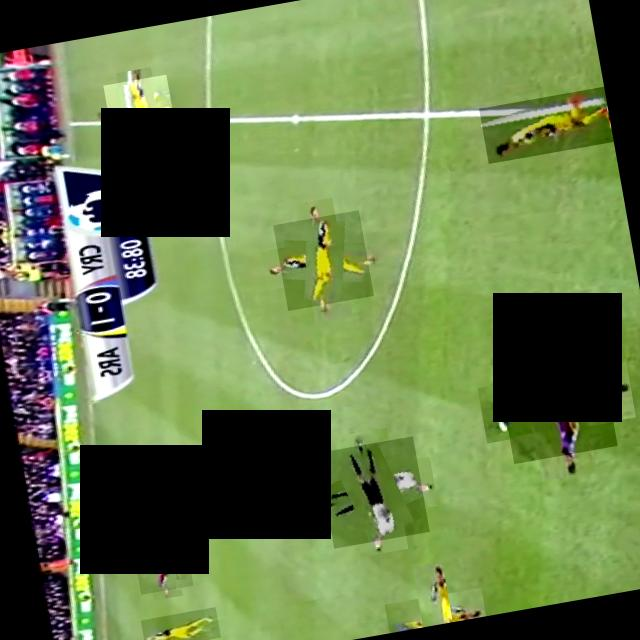referee: (317, 435, 429, 547)
soccer-player: (495, 340, 617, 462), (478, 86, 614, 162), (272, 208, 373, 310), (102, 73, 176, 146), (398, 572, 469, 630), (132, 532, 192, 593), (141, 605, 221, 640)
